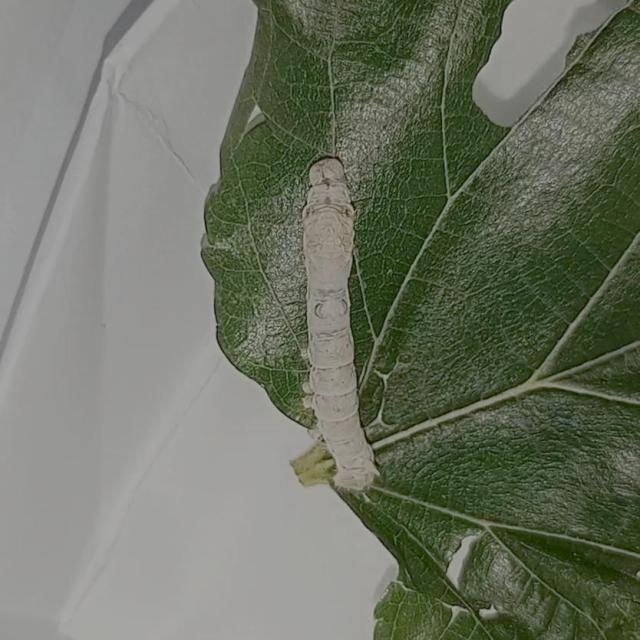Healthy: (280, 143, 399, 498)
